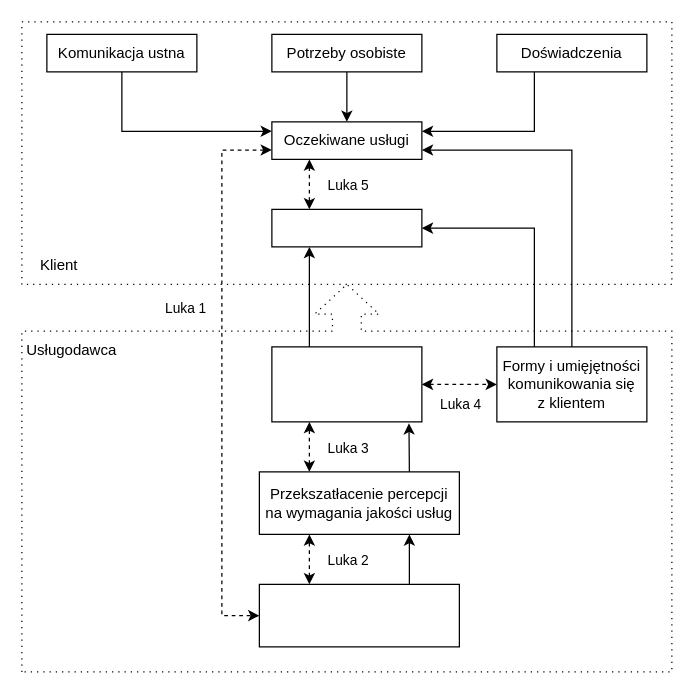
Image size: 694x694. Some labels were removed from this diagram. Here are the shapes that lost their labels. From the top down, the box of each, then its label:
(271, 208, 422, 247): Postrzegane usługi
(271, 346, 422, 422): Usługi dostarczone (z uwzględnieniem kontaktu przed i po)
(258, 583, 459, 647): Percepcja oczekiwań klientów wśród zarządzających
